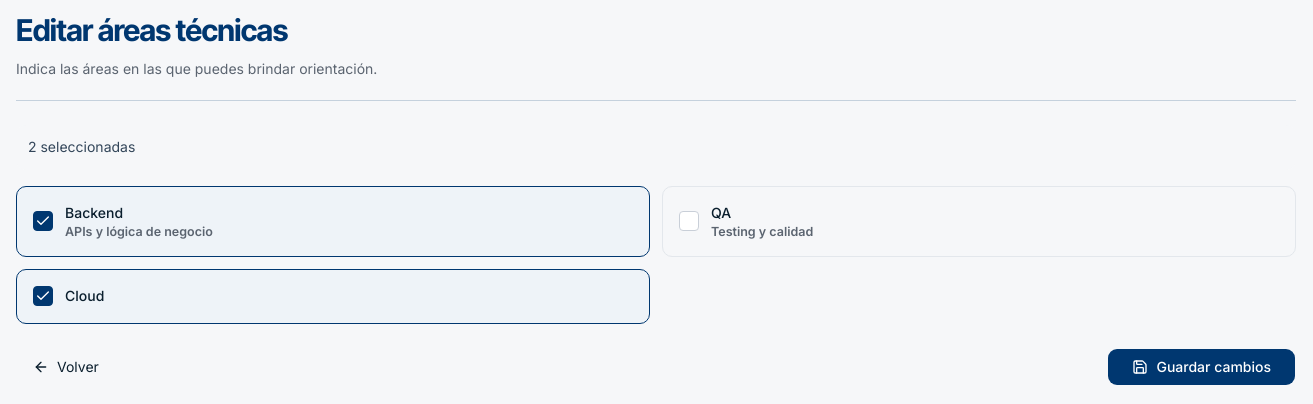
Test: TechnicalAreasView › desmarcar todo muestra la alerta y bloquea Guardar
Expected: the text "2 seleccionadas" is shown, top-left (16, 125), bottom-right (1296, 170)
Click the checkbox labelled "Backend APIs y lógica de negocio" at (94, 212), box top-left (16, 186), bottom-right (650, 257)
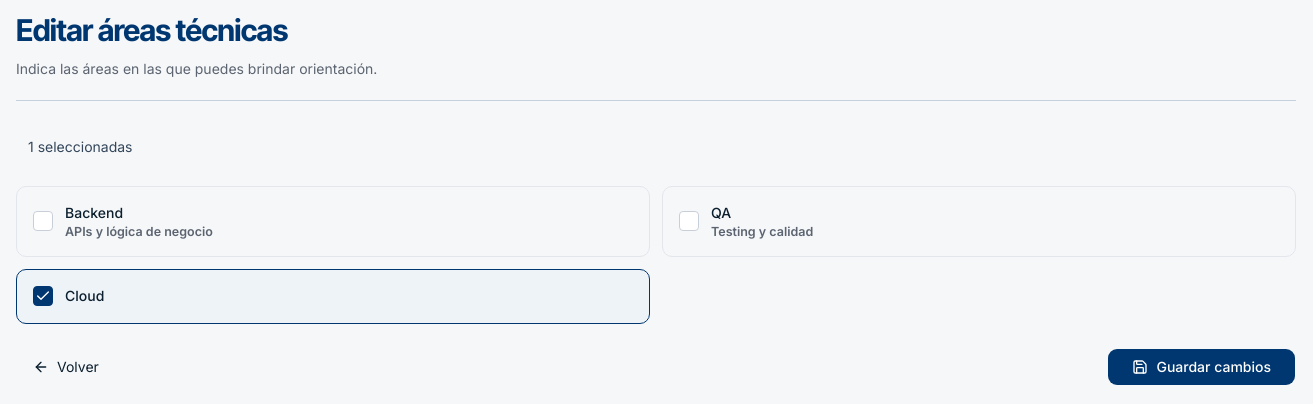
Click the checkbox labelled "Cloud" at (85, 296), box top-left (16, 269), bottom-right (650, 324)
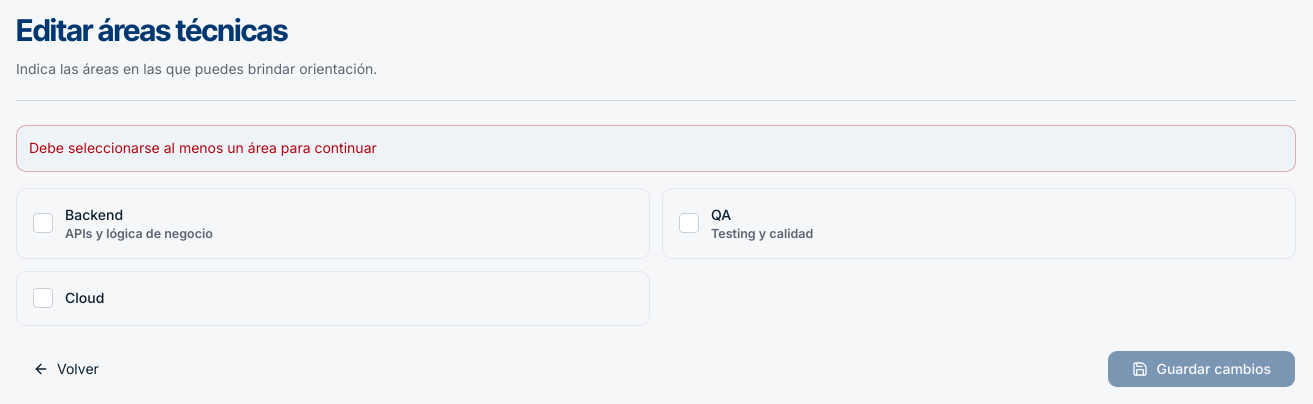
Result: the message shows "Debe seleccionarse al menos un área" at top-left (29, 139), bottom-right (377, 156)
Result: the button "Guardar cambios" is disabled at top-left (1108, 350), bottom-right (1296, 388)
